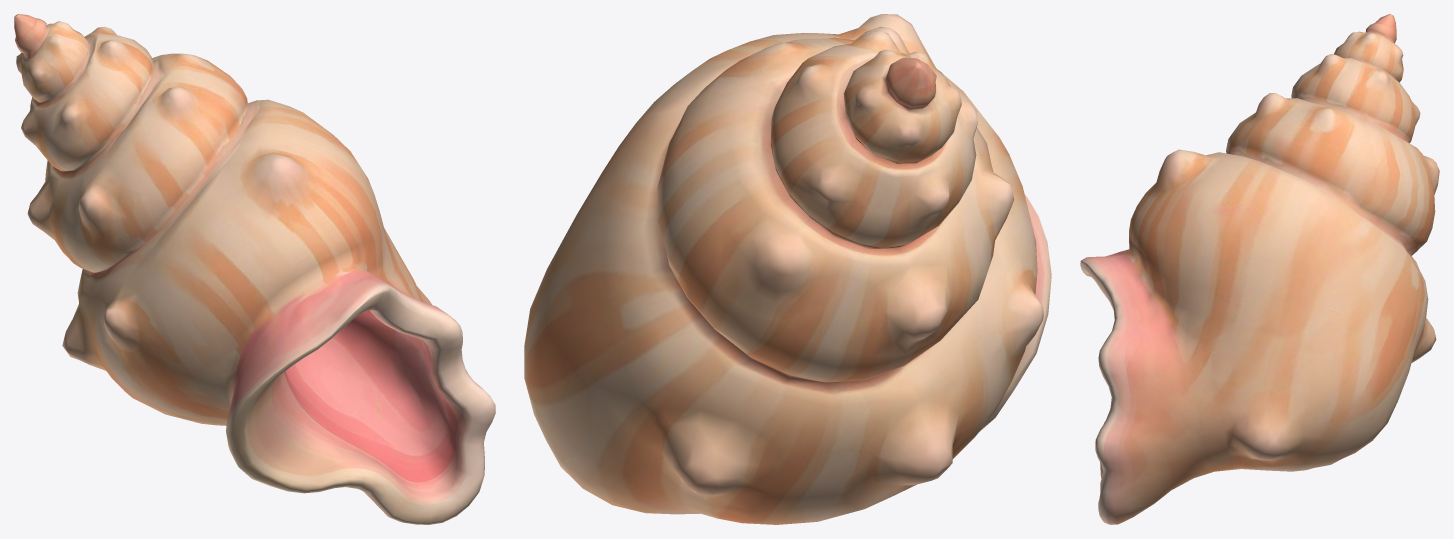
The model's file is shell-conch.glb.
The picture shows the model from 3 angles, left to right: view 1: azimuth 30°, elevation 25°; view 2: azimuth 150°, elevation 25°; view 3: azimuth 270°, elevation 25°; orthographic projection. The views are drawn at different scales.
Parts seen in each view (by area): view 1: Mesh_0; view 2: Mesh_0; view 3: Mesh_0.
Boxes of the visible parts, bbox=[...] form: Mesh_0: bbox=[14, 14, 495, 524]; Mesh_0: bbox=[524, 14, 1051, 524]; Mesh_0: bbox=[1080, 14, 1439, 524].
Size of the model in its own units: 0.8067 by 1 by 0.8211.
Materials: 1 (1 with a texture image).
